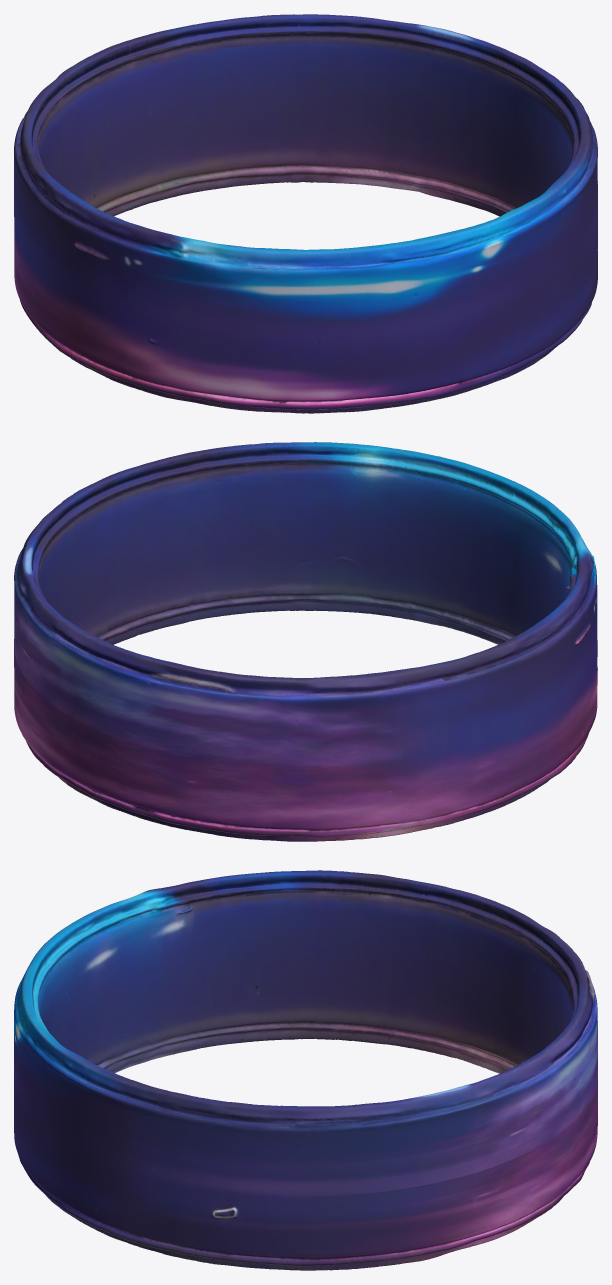
File: Meshy_AI_Neon_Circle_0602081902_texture.fbx
3 renders of one model, top to bottom at view 1: azimuth 30°, elevation 25°; view 2: azimuth 150°, elevation 25°; view 3: azimuth 270°, elevation 25°, orthographic.
Parts seen in each view (by area): view 1: Mesh_0; view 2: Mesh_0; view 3: Mesh_0.
Boxes of the visible parts, box(x1,y1,x2,y2) form: Mesh_0: box(14, 14, 597, 413); Mesh_0: box(14, 442, 597, 841); Mesh_0: box(14, 870, 597, 1270).
Bounding box in the file's own units: 200 × 62.13 × 200.
1 material, 1 textured.
